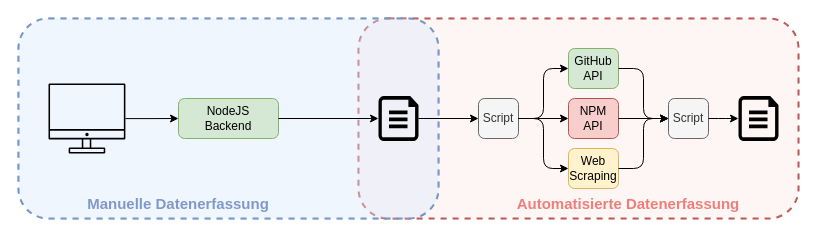
Image size: 816x236. Some labels were removed from this diagram. Each missing label, with the centre of its shape:
"data1.csv" goes at [398,118].
"data2.csv" goes at [758,118].
"Web Interface" goes at [86,118].
